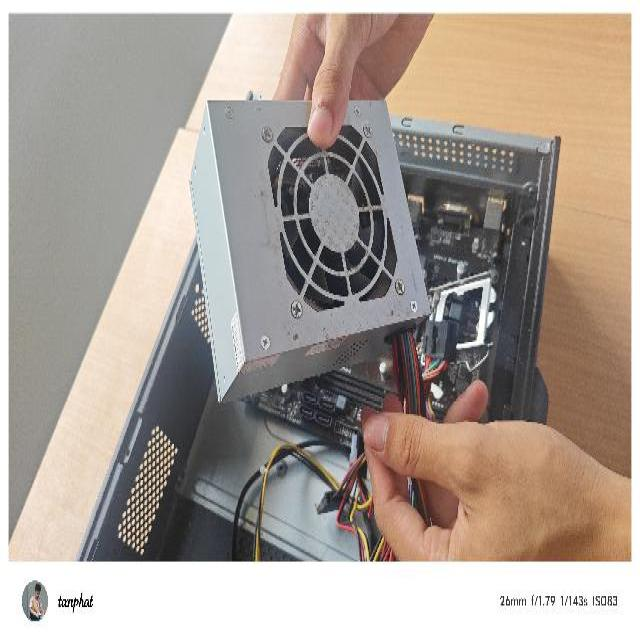PSU: (187, 92, 432, 405)
